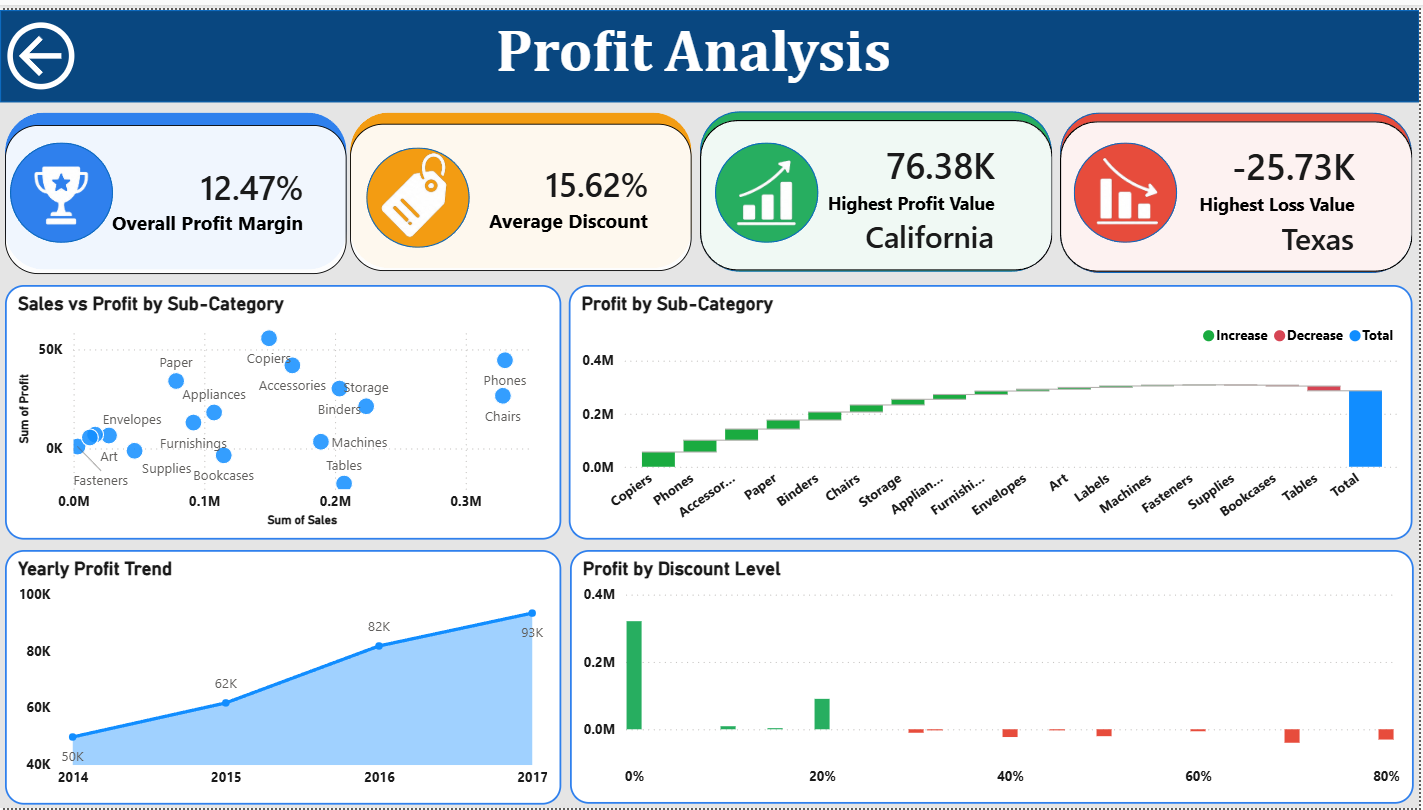

What the dashboard file says about the page in this screenshot:
{"tool":"powerbi","page":{"name":"Profit Analysis","canvas":[1280,720],"ordinal":3},"visuals":[{"type":"shape","box":[631.7,91.8,317.2,144.7],"z":0,"group":"g5"},{"type":"group","id":"g1","title":"card1","box":[4.5,93,308.9,144.7],"z":0,"group":"g9"},{"type":"shape","box":[4.5,93,308,141.8],"z":0,"group":"g1"},{"type":"shape","box":[315.8,93.2,308,140.4],"z":0,"group":"g2"},{"type":"shape","box":[955.8,93.2,317.2,144.7],"z":0,"group":"g6"},{"type":"shape","box":[631.7,100.1,317.9,135.7],"z":0,"group":"g3"},{"type":"shape","box":[955.8,101.5,317.9,135.7],"z":0,"group":"g4"},{"type":"shape","box":[9.6,119.8,92.9,90.5],"z":0,"group":"g10"},{"type":"shape","box":[645,119.8,93.2,90.4],"z":0,"group":"g8"},{"type":"scatterChart","title":"Sales vs Profit by Sub-Category","fields":{"Category":["Orders.Sub-Category"],"X":["Sum(Orders.Sales)"],"Y":["Sum(Orders.Profit)"]},"box":[4.9,248.2,501.4,229.9],"z":0},{"type":"group","id":"g2","title":"card2","box":[315.8,93.2,308.9,143.3],"z":1000,"group":"g9"},{"type":"group","id":"g3","title":"Group 2","box":[631.7,100.1,317.2,136.3],"z":1000,"group":"g5"},{"type":"cardVisual","fields":{"Data":["_measure.Highest Profit Value"]},"box":[682,100.1,244.9,103.8],"z":1000,"group":"g3"},{"type":"group","id":"g4","title":"Group 2","box":[955.8,101.5,317.2,136.3],"z":1000,"group":"g6"},{"type":"cardVisual","fields":{"Data":["_measure.Highest Loss Value"]},"box":[1006.1,101.5,244.9,103.8],"z":1000,"group":"g4"},{"type":"cardVisual","fields":{"Data":["_measure.Overall Profit Margin"]},"box":[4.5,103.8,308,134.1],"z":1000,"group":"g1"},{"type":"cardVisual","fields":{"Data":["_measure.Average Discount"]},"box":[315.8,103.9,308,132.8],"z":1000,"group":"g2"},{"type":"shape","box":[969.2,119.8,93.2,90.4],"z":1000,"group":"g10"},{"type":"image","box":[647.8,126.8,86.3,72.3],"z":1000,"group":"g8"},{"type":"clusteredColumnChart","title":"Profit by Discount Level","fields":{"Category":["Orders.Discount"],"Y":["Sum(Orders.Profit)"]},"box":[513.6,486.7,760.6,229],"z":1000},{"type":"group","id":"g5","title":"card3","box":[631.7,91.8,317.2,144.7],"z":2000,"group":"g9"},{"type":"image","box":[979,125.4,75.1,73.7],"z":2000,"group":"g10"},{"type":"cardVisual","fields":{"Data":["_measure.Highest Profit State"]},"box":[693.1,173.7,233.7,61.5],"z":2000,"group":"g3"},{"type":"cardVisual","fields":{"Data":["_measure.Highest Loss State"]},"box":[1017.2,175.1,233.7,61.5],"z":2000,"group":"g4"},{"type":"lineChart","title":"Yearly Profit Trend","fields":{"Category":["Date Table.Month","Date Table.Year"],"Y":["Sum(Orders.Profit)"]},"box":[4.9,486.7,501.4,229.9],"z":2000},{"type":"group","id":"g6","title":"card4","box":[955.8,93.2,317.2,144.7],"z":3000,"group":"g9"},{"type":"shape","box":[330.4,124.5,93.2,90.4],"z":3000,"group":"g7"},{"type":"image","box":[10.4,133.3,92.9,63.6],"z":3000,"group":"g10"},{"type":"waterfallChart","title":"Profit by Sub-Category","fields":{"Category":["Orders.Sub-Category"],"Y":["Sum(Orders.Profit)"]},"box":[512.4,248.2,760.6,229.9],"z":3000},{"type":"group","id":"g7","title":"Group 1","box":[330.4,124.5,93.2,90.4],"z":4000,"group":"g10"},{"type":"group","id":"g8","title":"Group 3","box":[645,119.8,93.2,90.4],"z":5000,"group":"g10"},{"type":"shape","title":"Customer & Regional Analysis","box":[0,0,1280,83.5],"z":7000},{"type":"image","box":[334.6,124.5,80.7,84.9],"z":7000,"group":"g7"},{"type":"group","id":"g9","title":"cards","box":[4.5,91.8,1268.6,146.1],"z":8000},{"type":"textbox","box":[353.4,0,542.6,83.5],"z":9000},{"type":"actionButton","title":"back Button","box":[0,4.2,101.6,73.7],"z":10000},{"type":"group","id":"g10","title":"card logo","box":[9.6,119.8,1052.8,95.1],"z":11000}]}

Visuals, with their boxes in screenshot pixels (x1, y1, x2, y2), scaled from the page's 1280x720 canvas onto the 1423x810 screenshot:
shape: bbox(702, 103, 1055, 266)
"card1" group: bbox(5, 105, 348, 267)
shape: bbox(5, 105, 347, 264)
shape: bbox(351, 105, 693, 263)
shape: bbox(1063, 105, 1415, 268)
shape: bbox(702, 113, 1056, 265)
shape: bbox(1063, 114, 1416, 267)
shape: bbox(11, 135, 114, 237)
shape: bbox(717, 135, 821, 236)
"Sales vs Profit by Sub-Category" scatterChart: bbox(5, 279, 563, 538)
"card2" group: bbox(351, 105, 694, 266)
"Group 2" group: bbox(702, 113, 1055, 266)
cardVisual - _measure.Highest Profit Value: bbox(758, 113, 1030, 229)
"Group 2" group: bbox(1063, 114, 1415, 268)
cardVisual - _measure.Highest Loss Value: bbox(1119, 114, 1391, 231)
cardVisual - _measure.Overall Profit Margin: bbox(5, 117, 347, 268)
cardVisual - _measure.Average Discount: bbox(351, 117, 693, 266)
shape: bbox(1077, 135, 1181, 236)
image: bbox(720, 143, 816, 224)
"Profit by Discount Level" clusteredColumnChart: bbox(571, 548, 1417, 805)
"card3" group: bbox(702, 103, 1055, 266)
image: bbox(1088, 141, 1172, 224)
cardVisual - _measure.Highest Profit State: bbox(771, 195, 1030, 265)
cardVisual - _measure.Highest Loss State: bbox(1131, 197, 1391, 266)
"Yearly Profit Trend" lineChart: bbox(5, 548, 563, 806)
"card4" group: bbox(1063, 105, 1415, 268)
shape: bbox(367, 140, 471, 242)
image: bbox(12, 150, 115, 222)
"Profit by Sub-Category" waterfallChart: bbox(570, 279, 1415, 538)
"Group 1" group: bbox(367, 140, 471, 242)
"Group 3" group: bbox(717, 135, 821, 236)
"Customer & Regional Analysis" shape: bbox(0, 0, 1422, 94)
image: bbox(372, 140, 462, 236)
"cards" group: bbox(5, 103, 1415, 268)
textbox: bbox(393, 0, 996, 94)
"back Button" actionButton: bbox(0, 5, 113, 88)
"card logo" group: bbox(11, 135, 1181, 242)
